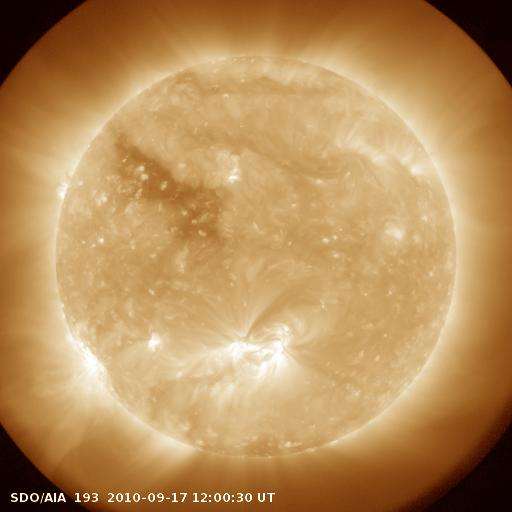coronal_hole: (112, 128, 229, 240)
